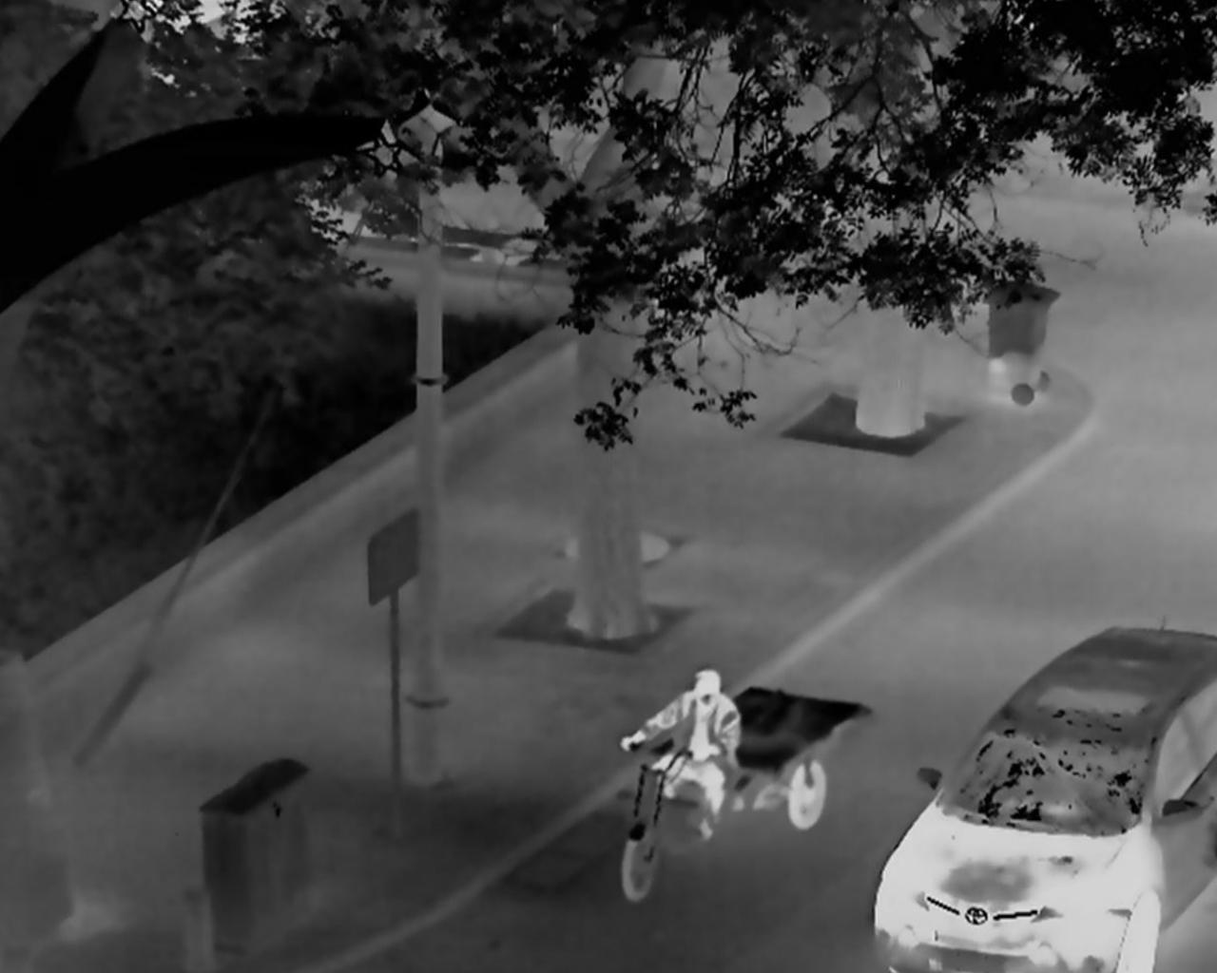person: (621, 668, 743, 847)
